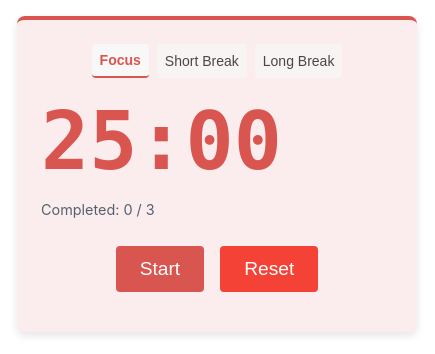
Test case: PomodoroTimer.vue › switches between different timer modes
This screenshot has width=435, height=354.
Short break mode
Click the button with class "mode-btn" showing "Short Break".
click(202, 62)  # box [157, 44, 247, 78]
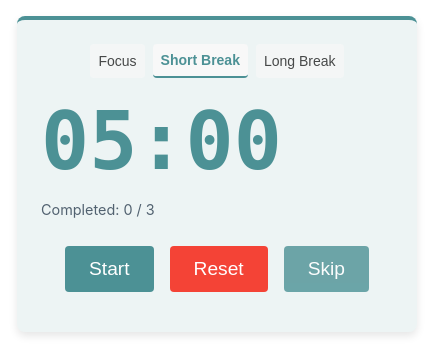
Expected: the text with class "timer" reads "05:00", [41, 96, 282, 188]
Long break mode
Click the button with class "mode-btn" showing "Long Break".
click(300, 62)  # box [256, 44, 344, 78]
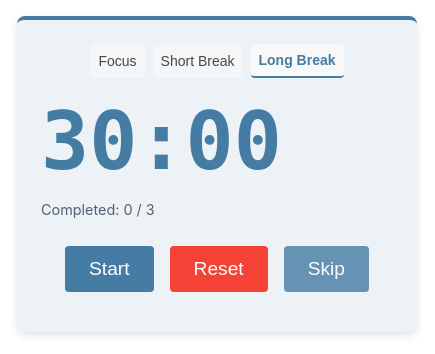
Expected: the text with class "timer" reads "30:00", [41, 96, 282, 188]
Back to pomodoro mode
Click the button with class "mode-btn" showing "Focus".
click(118, 62)  # box [90, 44, 145, 78]
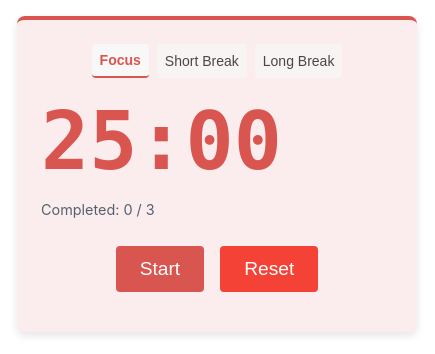
Expected: the text with class "timer" reads "25:00", [41, 96, 282, 188]
